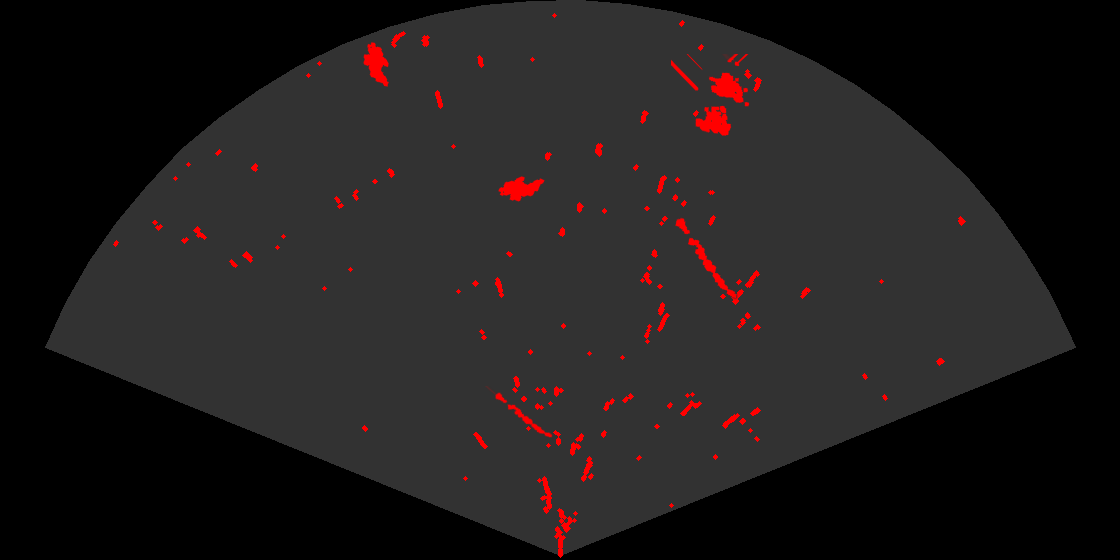AUV: (497, 175, 546, 203), (362, 41, 390, 88)
cage: (671, 54, 751, 137)
chain: (674, 216, 738, 300), (485, 386, 554, 439)
